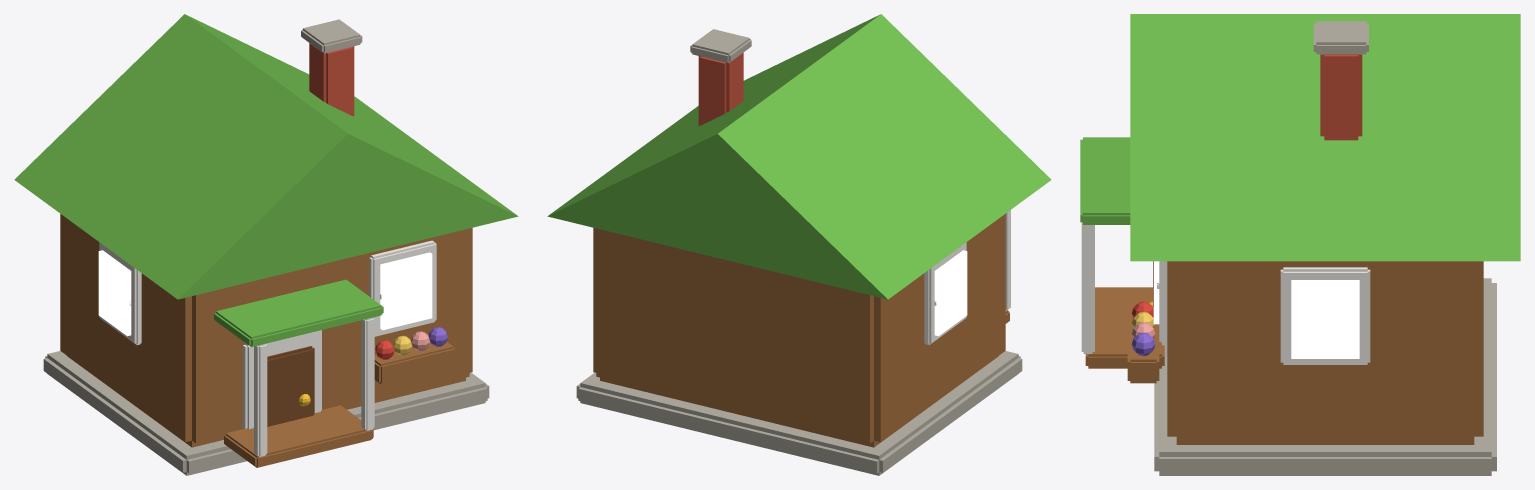
The model's file is farmhouse.glb.
3 views of the same model, side by side, from view 1: azimuth 30°, elevation 25°; view 2: azimuth 150°, elevation 25°; view 3: azimuth 270°, elevation 25° (orthographic). The views are drawn at different scales.
Parts seen in each view (by area): view 1: farmhouse; view 2: farmhouse; view 3: farmhouse.
Part boxes in pixels (x1,y1,x2,y2): farmhouse: (14, 14, 518, 475); farmhouse: (547, 14, 1051, 475); farmhouse: (1080, 14, 1520, 475).
Bounding box in the file's own units: 1.78 × 1.67 × 1.67.
